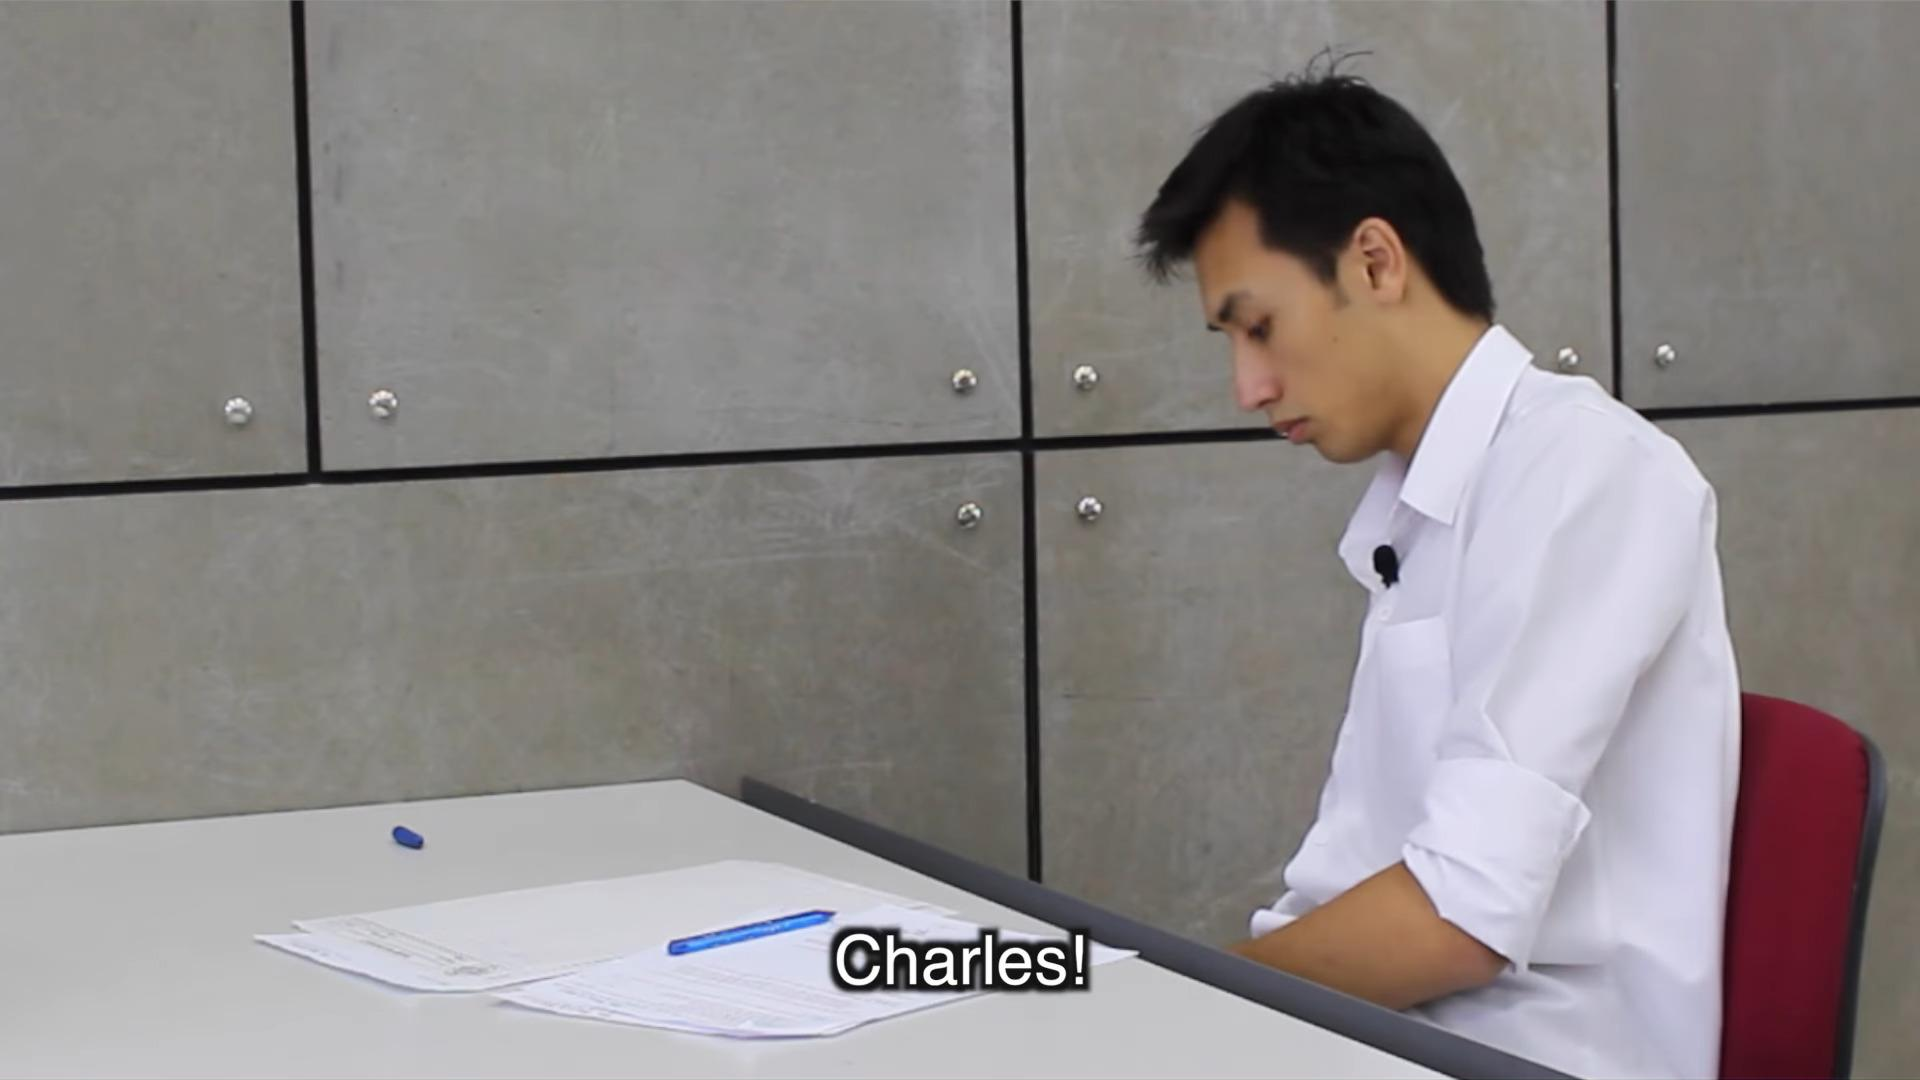cheating: (1100, 58, 1800, 1080)
